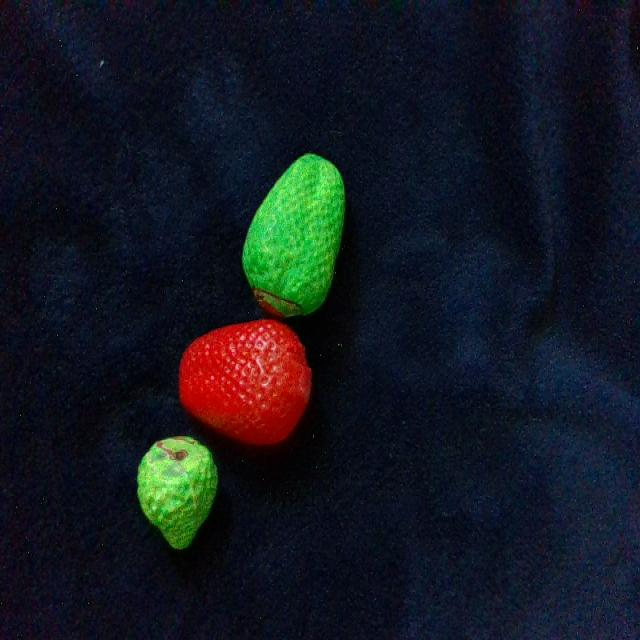grande_roja: (179, 319, 311, 444)
verde: (243, 153, 345, 316), (137, 436, 217, 548)
